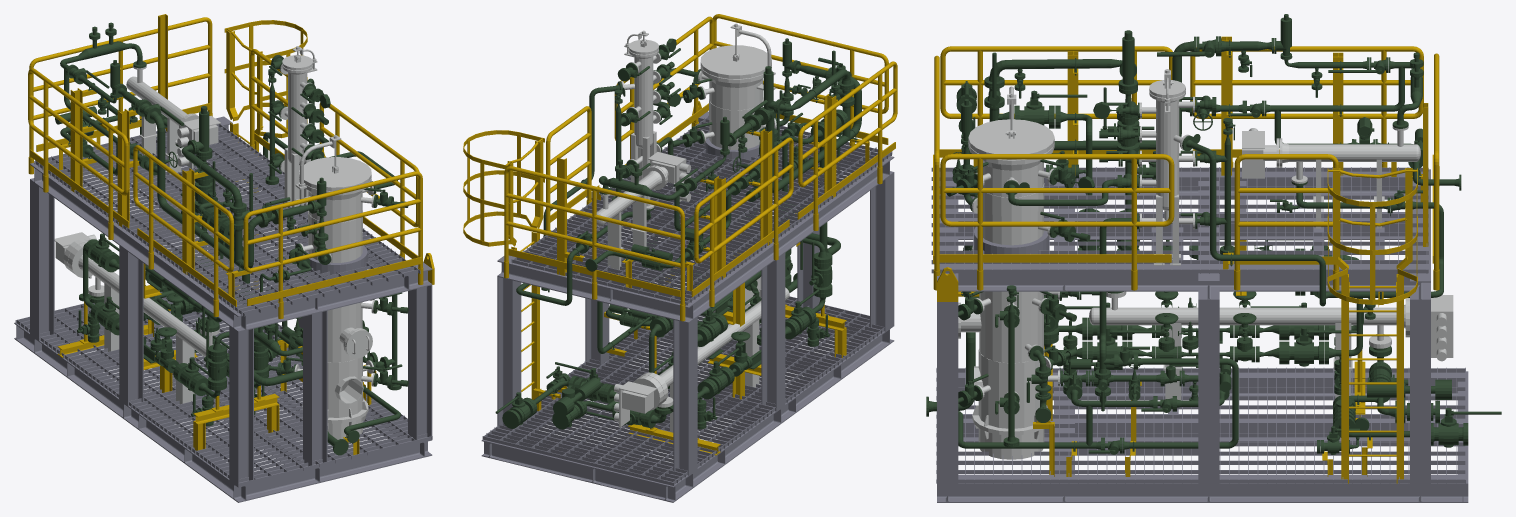
Rendered from skid.glb.
3 views of the same model, side by side, from view 1: azimuth 30°, elevation 25°; view 2: azimuth 150°, elevation 25°; view 3: azimuth 270°, elevation 25° (orthographic). The views are drawn at different scales.
Visible parts, largest first — view 1: Stru Col.001, Hand rail, PIPE 1, PIPE 2, Grating Upper.001, Grating lower.001, EQUI 1, Stru basebeam.002, Supp, EQUI 2, Grating Upper.002, Grating lower.002 (+3 smaller); view 2: Stru Col.001, Hand rail, PIPE 1, Grating lower.001, PIPE 2, Grating Upper.001, Stru basebeam.002, Supp, EQUI 1, EQUI 2, Grating lower.002, EQUI 4 (+3 smaller); view 3: PIPE 1, Stru Col.001, Hand rail, Stru basebeam.002, PIPE 2, Grating lower.002, EQUI 1, Grating Upper.002, EQUI 2, Supp, Grating lower.001, EQUI 3 (+3 smaller).
Boxes of the visible parts, x1,y1,x2,y2 form: Stru Col.001: (30, 116, 432, 486); Hand rail: (28, 17, 434, 318); PIPE 1: (77, 106, 408, 443); PIPE 2: (55, 22, 401, 455); Grating Upper.001: (34, 123, 418, 315); Grating lower.001: (15, 292, 432, 486); EQUI 1: (294, 135, 375, 439); Stru basebeam.002: (14, 292, 432, 502); Supp: (57, 14, 376, 455); EQUI 2: (54, 232, 219, 404); Grating Upper.002: (35, 124, 420, 316); Grating lower.002: (17, 304, 431, 486); Stru Col.001: (497, 111, 894, 475); Hand rail: (463, 14, 897, 399); PIPE 1: (495, 38, 846, 429); Grating lower.001: (482, 296, 883, 485); PIPE 2: (516, 38, 861, 305); Grating Upper.001: (511, 115, 891, 305); Stru basebeam.002: (481, 293, 894, 502); Supp: (533, 94, 869, 455); EQUI 1: (698, 23, 776, 312); EQUI 2: (614, 287, 789, 432); Grating lower.002: (484, 299, 884, 484); EQUI 4: (596, 152, 691, 269); PIPE 1: (946, 30, 1501, 454); Stru Col.001: (937, 169, 1430, 483); Hand rail: (933, 46, 1439, 483); Stru basebeam.002: (937, 371, 1468, 502); PIPE 2: (926, 14, 1461, 447); Grating lower.002: (936, 368, 1465, 483); EQUI 1: (958, 86, 1059, 459); Grating Upper.002: (931, 167, 1428, 273); EQUI 2: (1089, 291, 1453, 400); Supp: (958, 36, 1428, 476); Grating lower.001: (936, 367, 1465, 483); EQUI 3: (1140, 69, 1194, 265).
Size of the model in its own units: 3.28 by 4.27 by 5.42.
